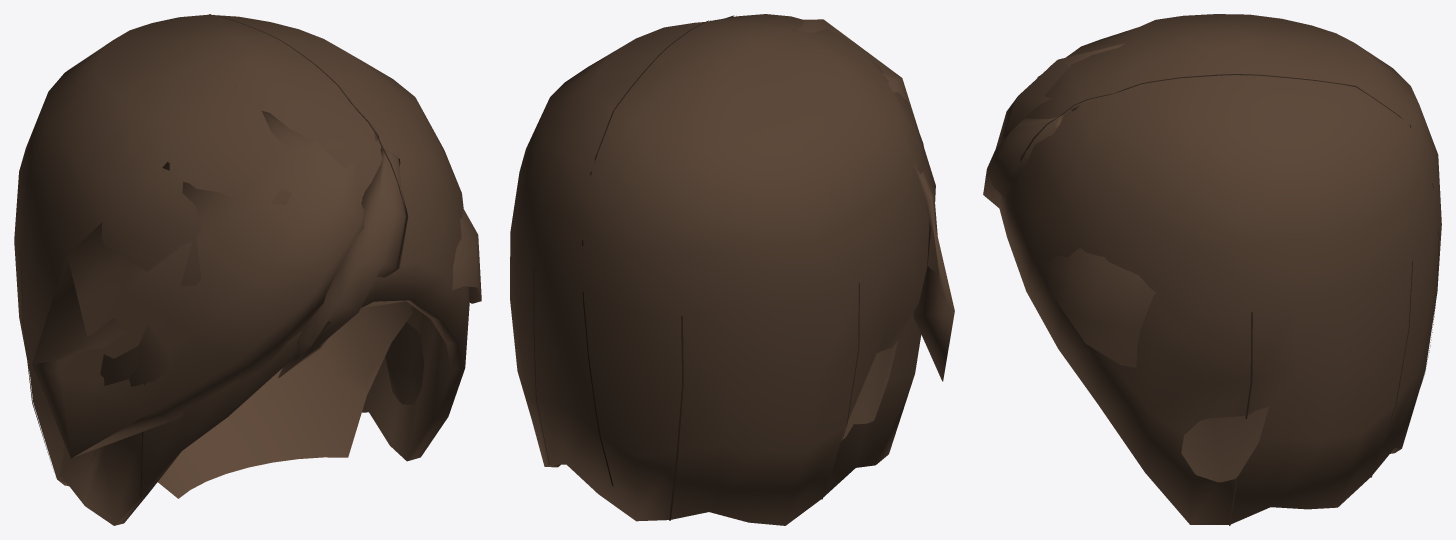
File: hair-tide.glb
The picture shows the model from 3 angles, left to right: view 1: azimuth 30°, elevation 25°; view 2: azimuth 150°, elevation 25°; view 3: azimuth 270°, elevation 25°; orthographic projection. The views are drawn at different scales.
Parts seen in each view (by area): view 1: hair-tide_ref2_hair-tide__head_mesh; view 2: hair-tide_ref2_hair-tide__head_mesh; view 3: hair-tide_ref2_hair-tide__head_mesh.
Boxes of the visible parts, x1,y1,x2,y2 form: hair-tide_ref2_hair-tide__head_mesh: (14,14,481,525); hair-tide_ref2_hair-tide__head_mesh: (510,14,954,525); hair-tide_ref2_hair-tide__head_mesh: (983,14,1441,525).
Bounding box in the file's own units: 0.4608 × 0.4678 × 0.4641.
